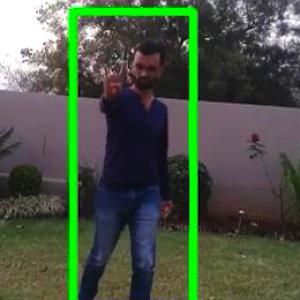takeoff-hand: (94, 61, 128, 109)
